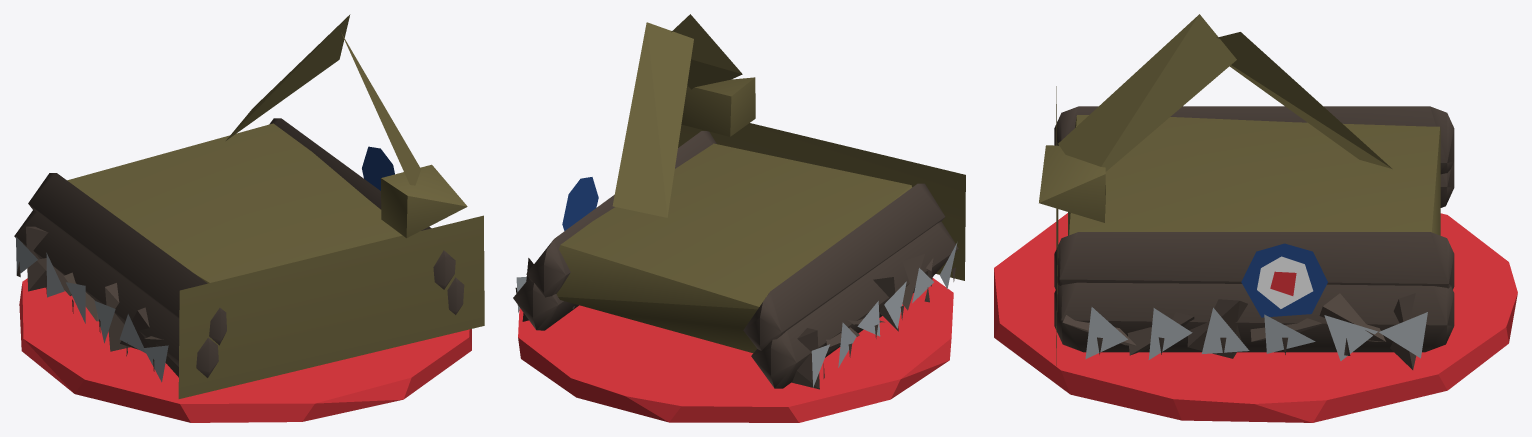
Rendered from united_kingdom_engineer_lod1.glb.
3 views of the same model, side by side, from view 1: azimuth 30°, elevation 25°; view 2: azimuth 150°, elevation 25°; view 3: azimuth 270°, elevation 25° (orthographic). The views are drawn at different scales.
Visible parts, largest first — view 1: body_hull, base_pedestal; view 2: body_hull, base_pedestal; view 3: body_hull, base_pedestal.
Boxes of the visible parts, left/top/right/bottom form: body_hull: left=14, top=14, right=484, bottom=398; base_pedestal: left=19, top=278, right=471, bottom=422; body_hull: left=513, top=14, right=965, bottom=389; base_pedestal: left=518, top=278, right=953, bottom=422; body_hull: left=1039, top=14, right=1454, bottom=369; base_pedestal: left=994, top=213, right=1517, bottom=422.
Size of the model in its own units: 0.7751 by 0.553 by 0.7751.
